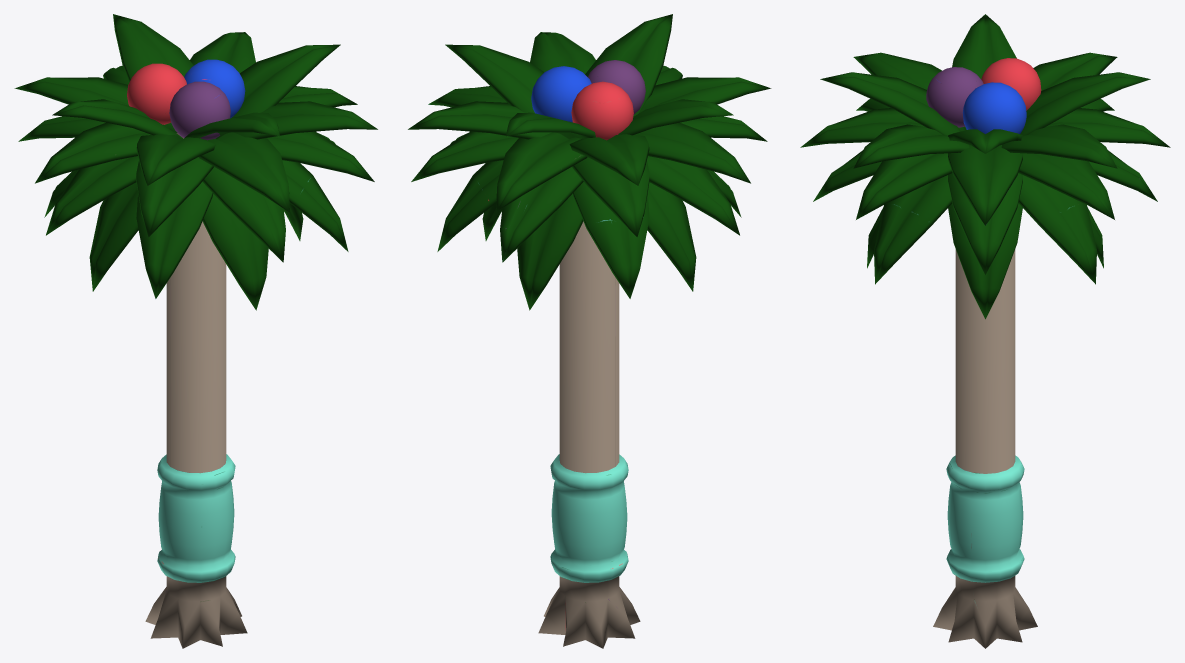
The model's file is Kicking-tree.fbx.
The picture shows the model from 3 angles, left to right: view 1: azimuth 30°, elevation 25°; view 2: azimuth 150°, elevation 25°; view 3: azimuth 270°, elevation 25°; orthographic projection.
Visible parts, largest first — view 1: Icosphere.002_Icosphere.003; view 2: Icosphere.002_Icosphere.003; view 3: Icosphere.002_Icosphere.003.
Boxes of the visible parts, left/top/right/bottom form: Icosphere.002_Icosphere.003: left=14, top=14, right=377, bottom=648; Icosphere.002_Icosphere.003: left=408, top=14, right=771, bottom=648; Icosphere.002_Icosphere.003: left=800, top=14, right=1170, bottom=648.
Bounding box in the file's own units: 0.0814 × 0.134 × 0.0814.
